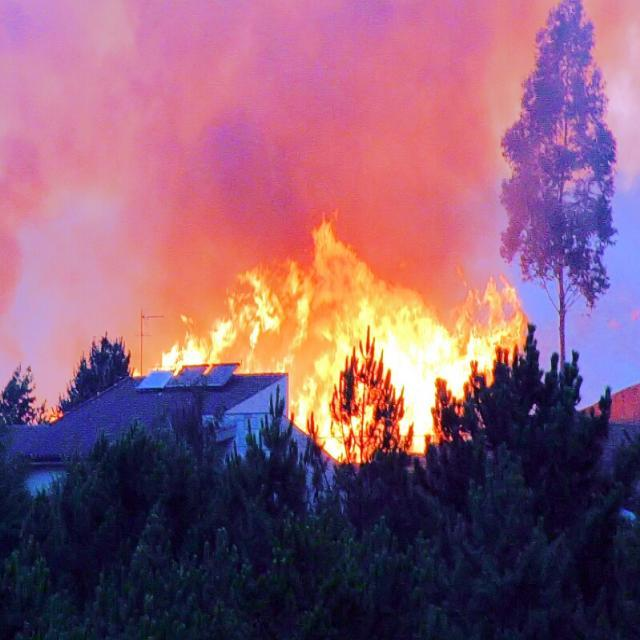Fire: (290, 217, 534, 485), (153, 264, 304, 382)
Smoke: (0, 0, 544, 298)
